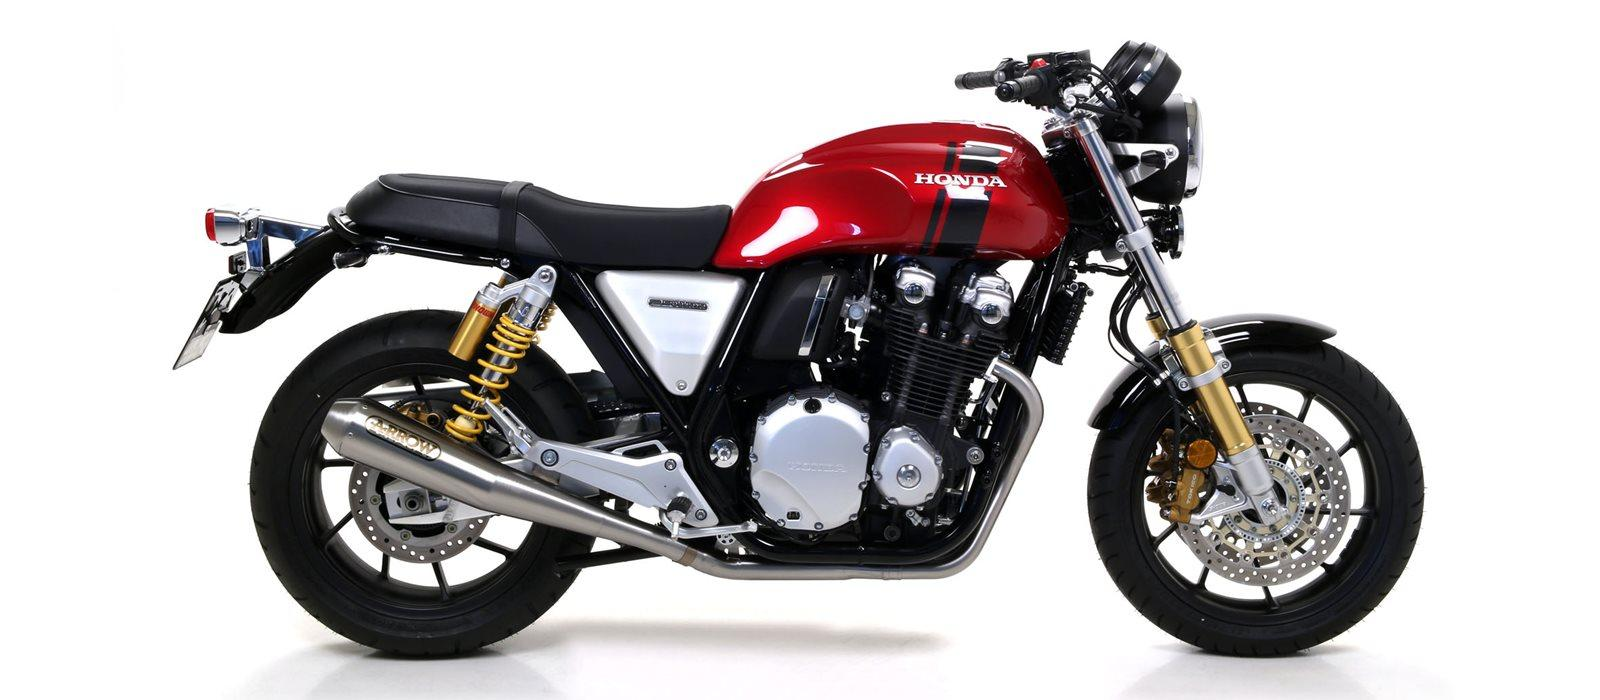engine-chasis: (521, 252, 1035, 547), (444, 264, 561, 443), (552, 543, 662, 579)
exhaust: (320, 356, 1045, 580)
frontside: (999, 93, 1337, 527)
handlebar: (953, 39, 1182, 133)
motorbike: (176, 39, 1426, 655)
rearside: (170, 206, 753, 452), (383, 478, 498, 525), (482, 397, 541, 473)
seat: (346, 172, 731, 266)
tank: (711, 120, 1071, 269)
wheel: (248, 309, 596, 658), (1087, 341, 1425, 657), (1108, 266, 1181, 480), (498, 344, 604, 444)
